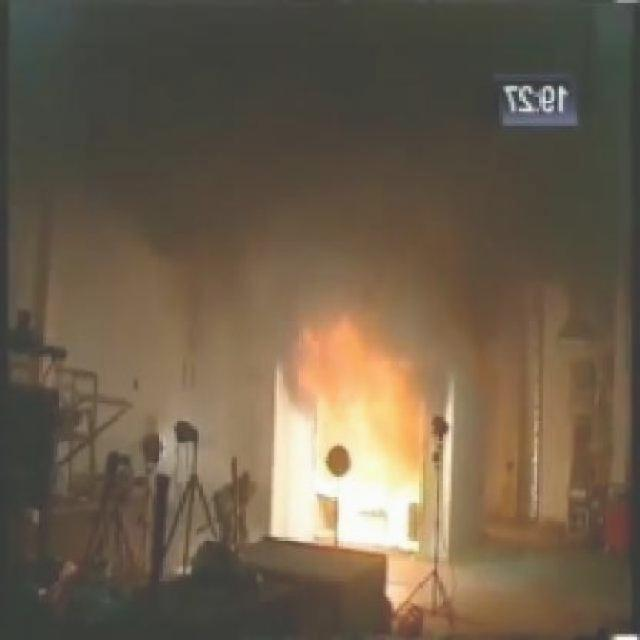fire: (286, 283, 476, 526)
smoke: (2, 2, 635, 348)
